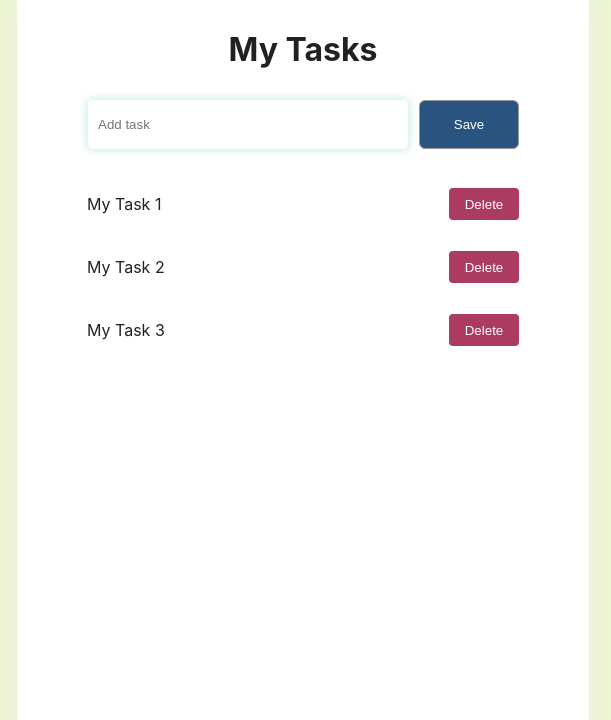
Todo spec › Task list › Delete 2nd task from the list
Check: the number of list items is 3, box [87,188,519,220]; [87,251,519,283]; [87,314,519,346]
Click the button "Delete" in the row of "My Task 2": (484,267) [449,251,519,283]
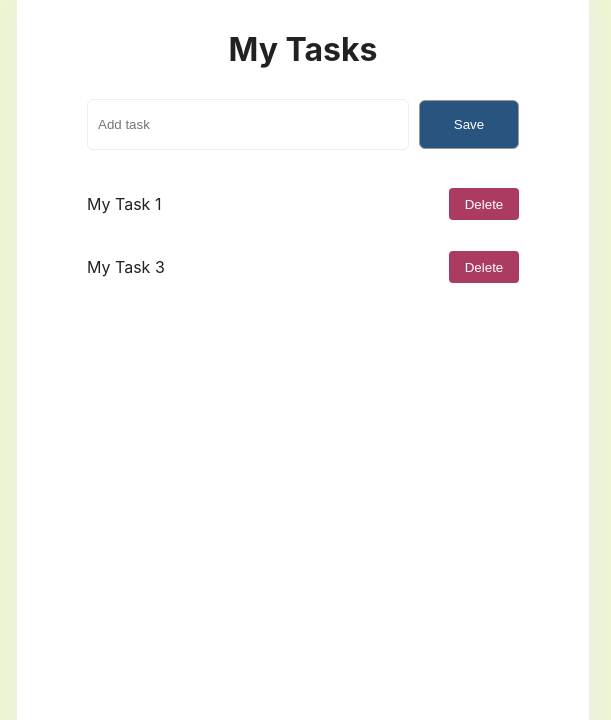
Check: the number of list items is 2, box [87,188,519,220]; [87,251,519,283]
